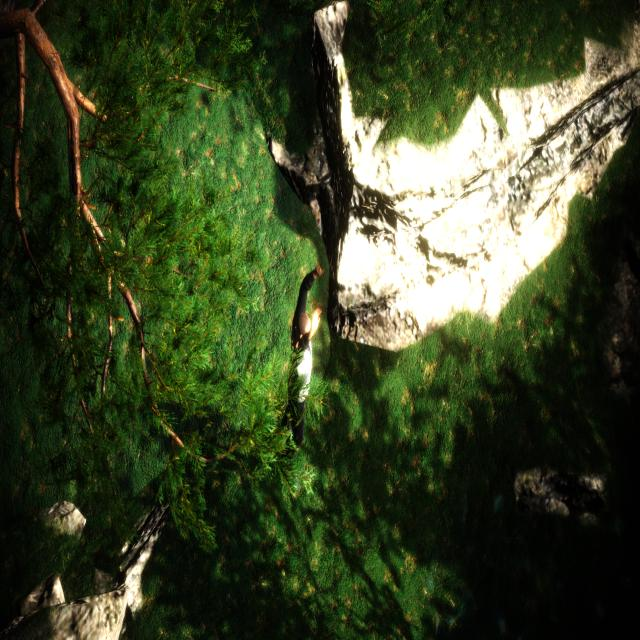Human: (275, 246, 323, 509)
